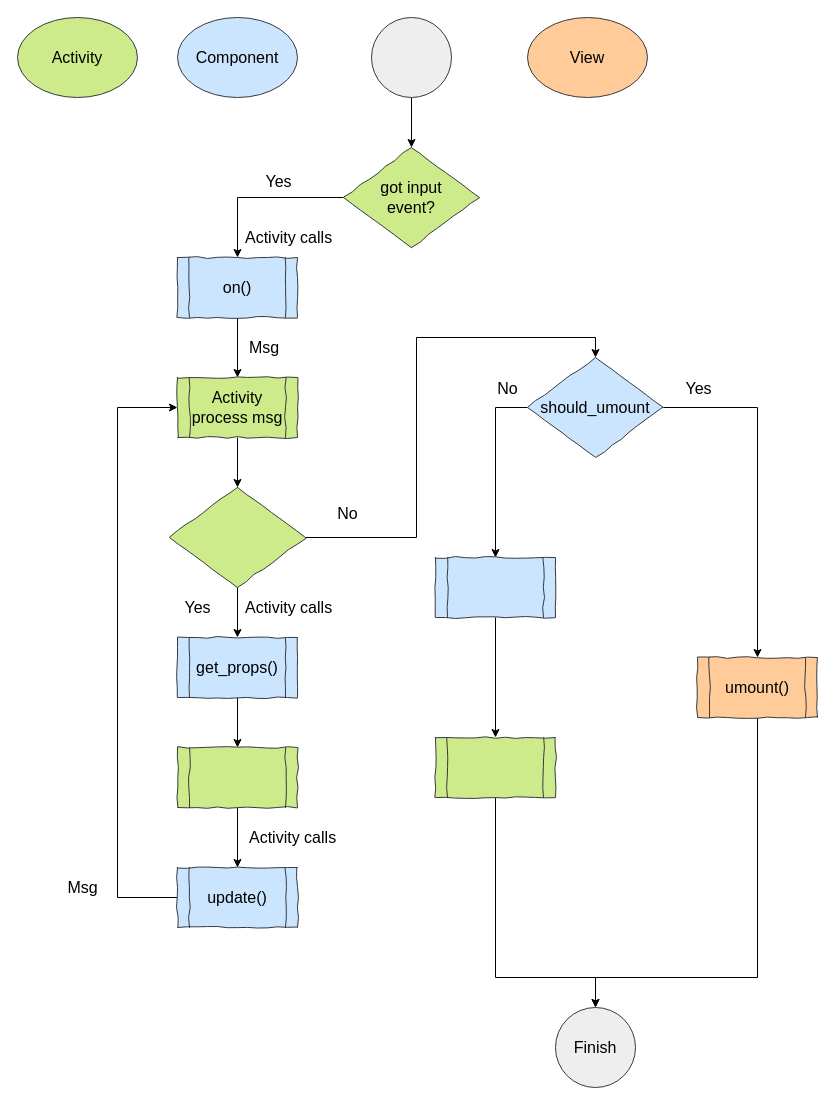
The diagram is 835 pixels wide and 1105 high, and some of its shapes have lost their labels. Each missing label, with the centre of its shape:
component requires update?: the point at 237,537
Make new props: the point at 237,777
render all: the point at 495,767
render(): the point at 495,587
Start: the point at 411,57
